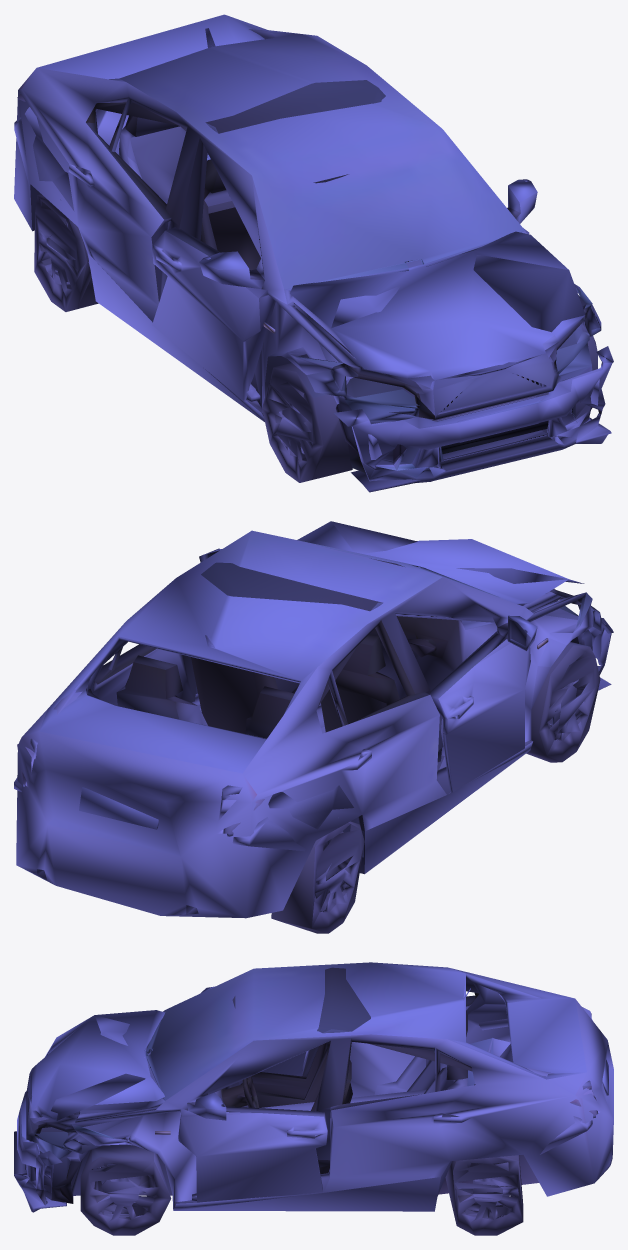
Rendered from model.progressive.glb.
3 renders of one model, top to bottom at view 1: azimuth 30°, elevation 25°; view 2: azimuth 150°, elevation 25°; view 3: azimuth 270°, elevation 25°, orthographic. The views are drawn at different scales.
Parts seen in each view (by area): view 1: BrokenCar8; view 2: BrokenCar8; view 3: BrokenCar8.
Boxes of the visible parts, bbox=[...] form: BrokenCar8: bbox=[14, 14, 613, 492]; BrokenCar8: bbox=[14, 521, 613, 933]; BrokenCar8: bbox=[14, 962, 613, 1235].
Size of the model in its own units: 0.5565 by 0.4105 by 1.13.
1 material, 1 textured.
